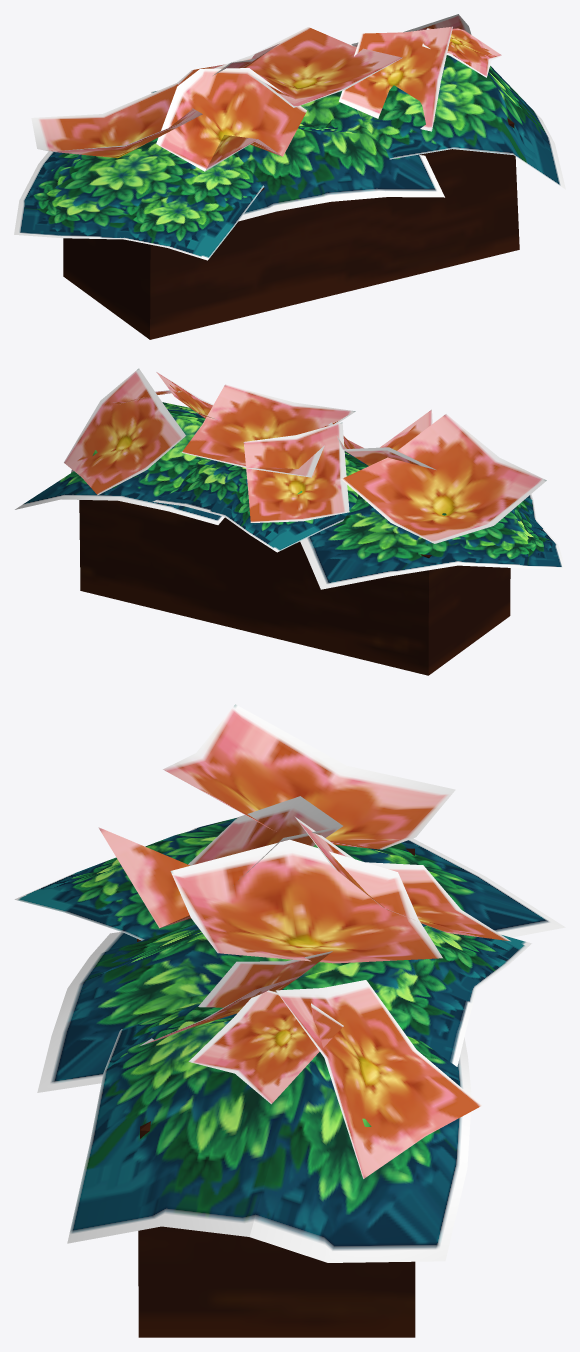
The model's file is SM_PROP_PLANT_pot_v1_02.glb.
3 views of the same model, one above another, from view 1: azimuth 30°, elevation 25°; view 2: azimuth 150°, elevation 25°; view 3: azimuth 270°, elevation 25° (orthographic). The views are drawn at different scales.
Visible parts, largest first — view 1: SM_PROP_PLANT_pot_v1_02_EXPORT; view 2: SM_PROP_PLANT_pot_v1_02_EXPORT; view 3: SM_PROP_PLANT_pot_v1_02_EXPORT.
Part boxes in pixels (x1,y1,x2,y2): SM_PROP_PLANT_pot_v1_02_EXPORT: (14, 14, 565, 339); SM_PROP_PLANT_pot_v1_02_EXPORT: (15, 368, 565, 675); SM_PROP_PLANT_pot_v1_02_EXPORT: (14, 704, 565, 1337).
Bounding box in the file's own units: 1.05 × 0.4004 × 0.5985.
2 materials, 2 textured.
